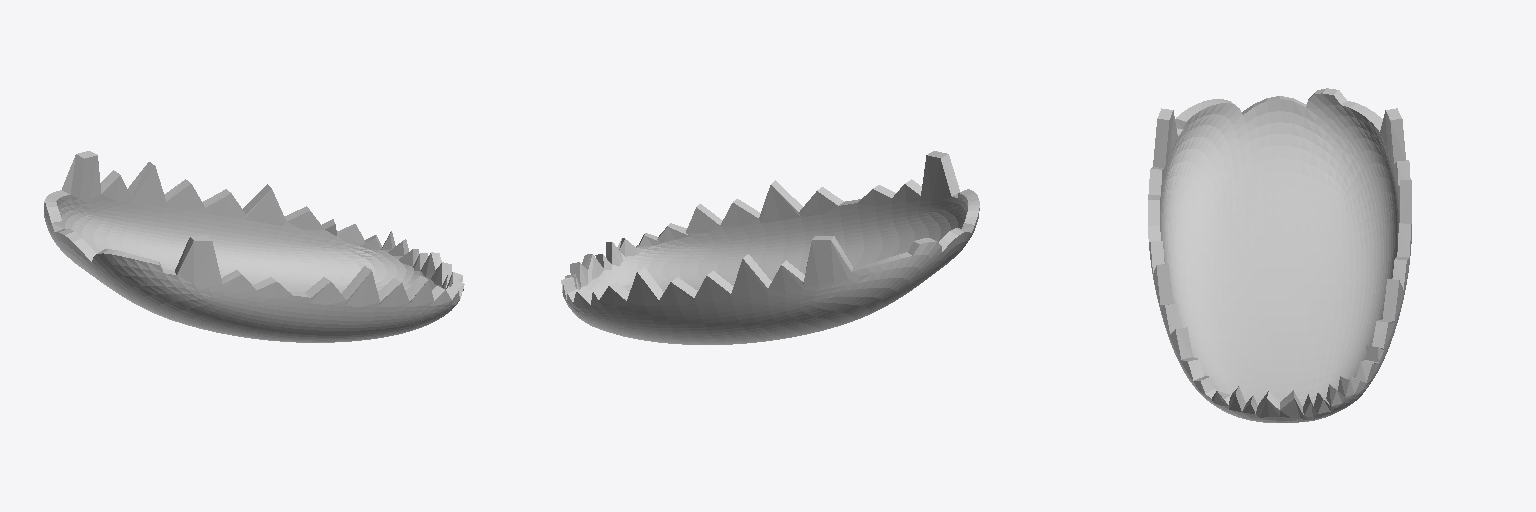
The model's file is mandibula.obj.
3 renders of one model, left to right at view 1: azimuth 30°, elevation 25°; view 2: azimuth 150°, elevation 25°; view 3: azimuth 270°, elevation 25°, orthographic.
Visible parts, largest first — view 1: cabeza.001; view 2: cabeza.001; view 3: cabeza.001.
Part boxes in pixels (x1,y1,x2,y2): cabeza.001: (44, 151, 464, 342); cabeza.001: (561, 151, 979, 344); cabeza.001: (1148, 88, 1411, 422).
Bounding box in the file's own units: 2.68 × 1.19 × 1.61.